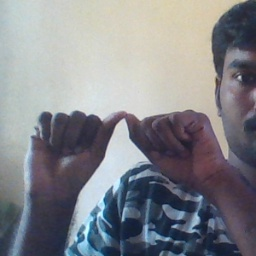A: (26, 101, 216, 194)
